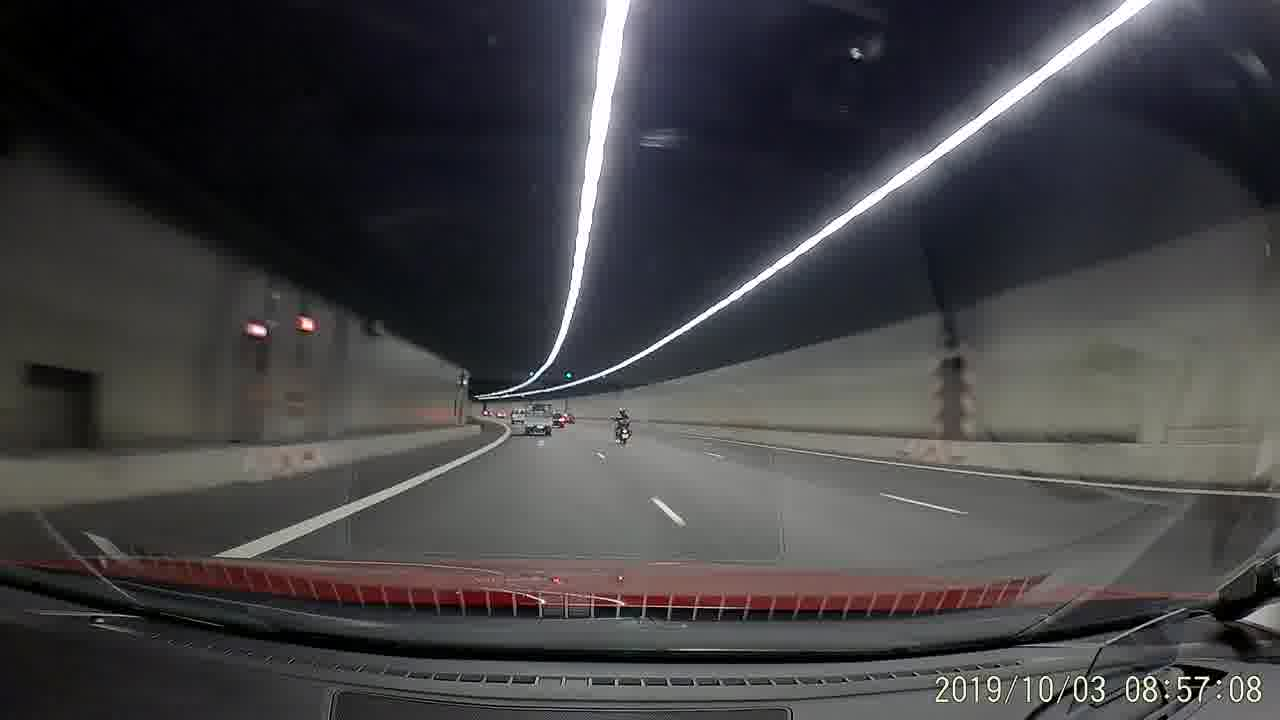car: (554, 413, 566, 428), (562, 411, 573, 427)
